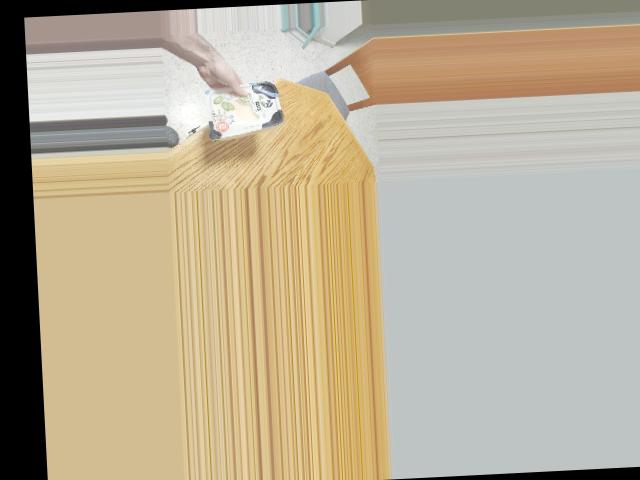cheese: (210, 83, 282, 130)
